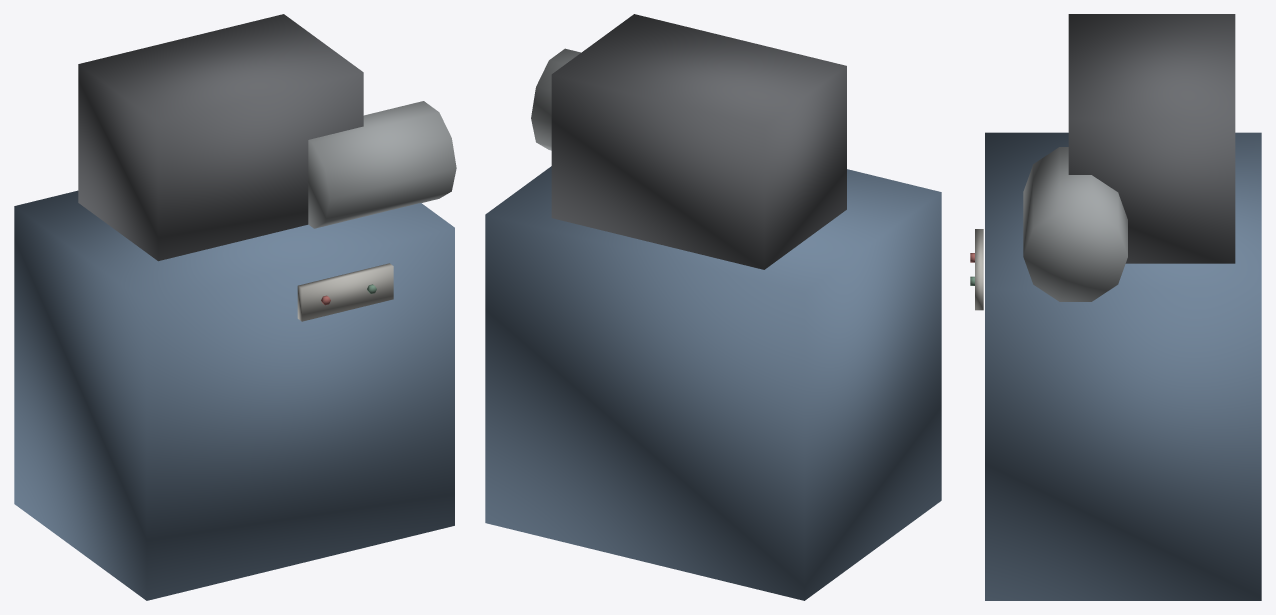
Rendered from library_cart.glb.
The picture shows the model from 3 angles, left to right: view 1: azimuth 30°, elevation 25°; view 2: azimuth 150°, elevation 25°; view 3: azimuth 270°, elevation 25°; orthographic projection. The views are drawn at different scales.
Visible parts, largest first — view 1: world; view 2: world; view 3: world.
Boxes of the visible parts, x1,y1,x2,y2 form: world: [14, 14, 456, 600]; world: [485, 14, 941, 600]; world: [970, 14, 1261, 600].
Bounding box in the file's own units: 0.83 × 1.05 × 0.611.
